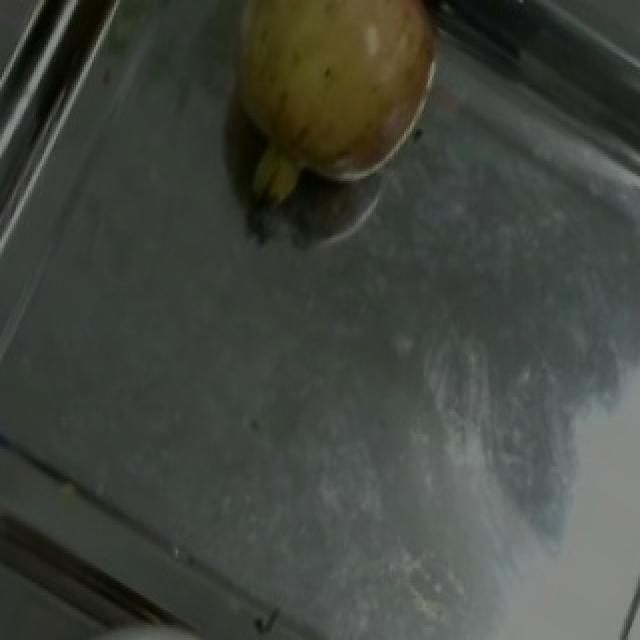fruit: (200, 0, 472, 213)
